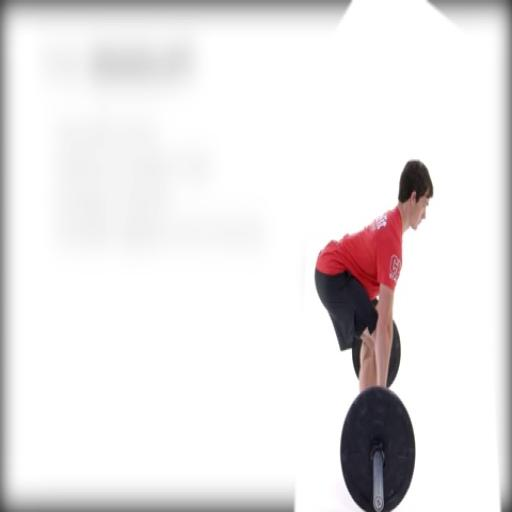exercise: (312, 156, 435, 394)
